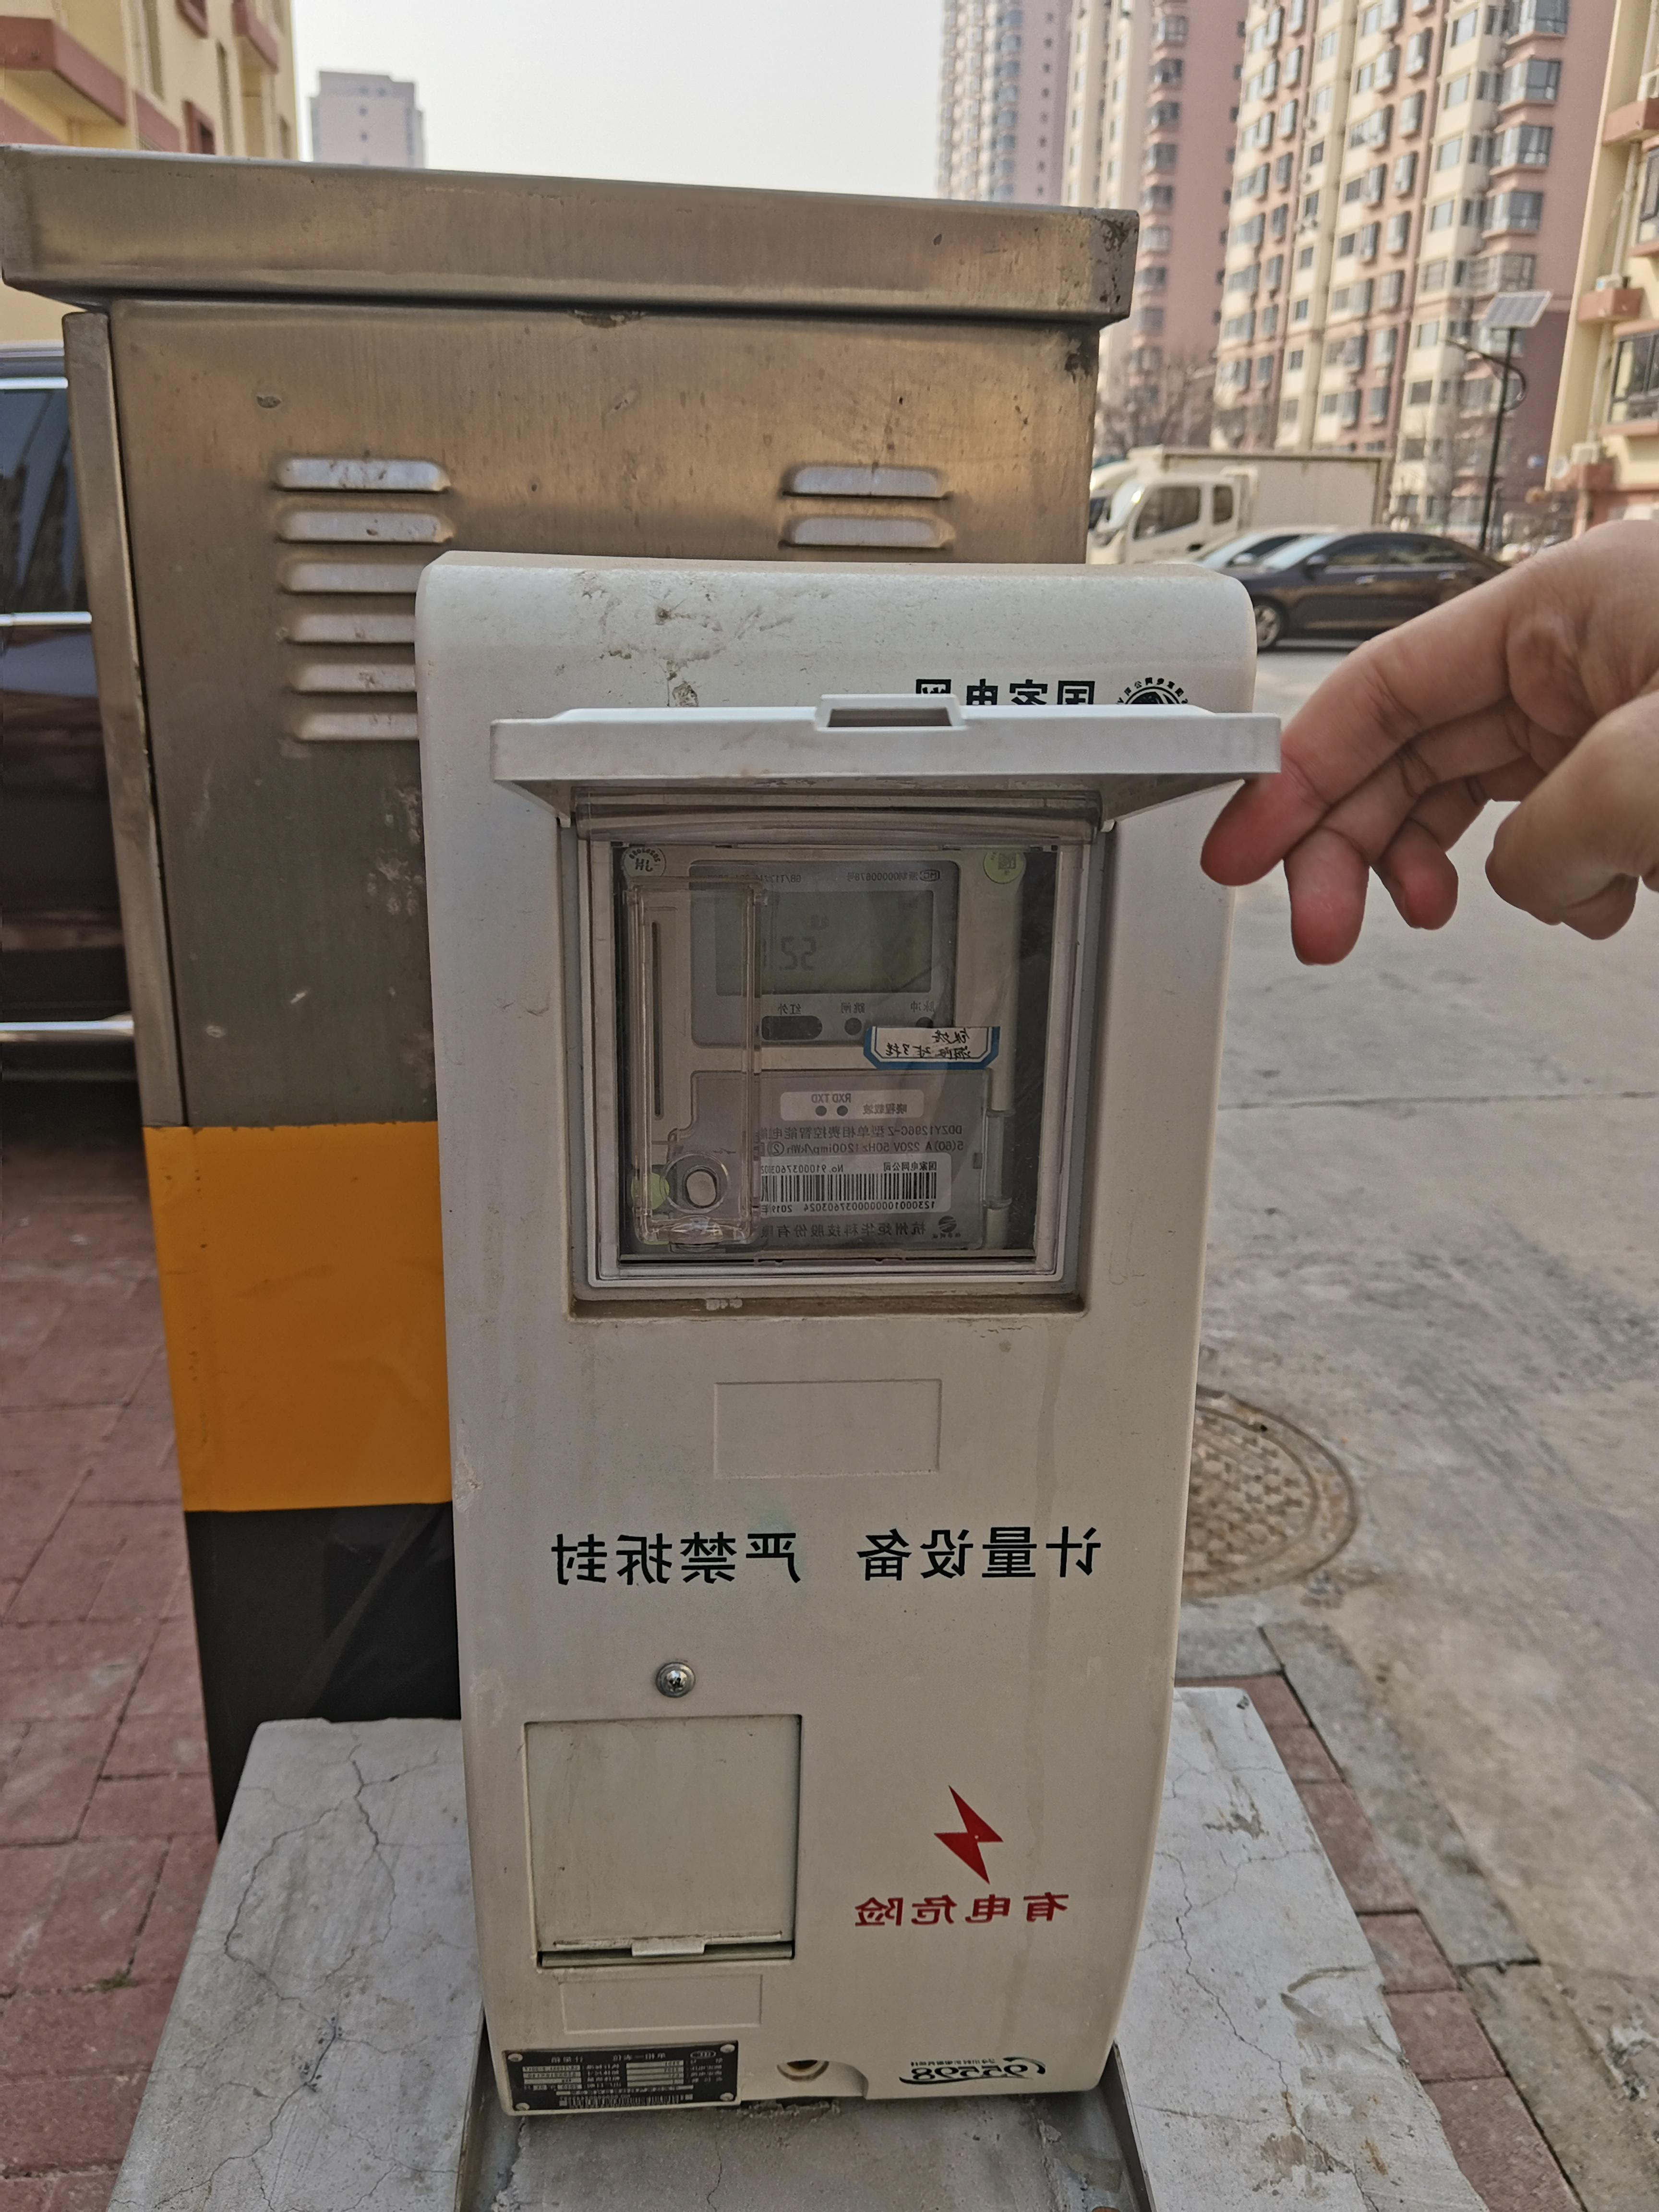digital: (626, 840, 999, 1268)
